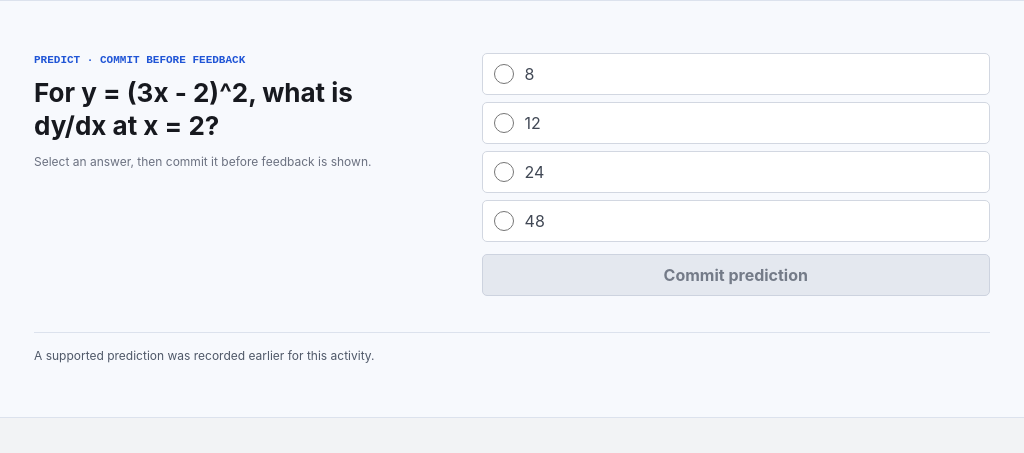
ChoicePredictionGate attempt state › distinguishes an unsupported retry from an earlier supported attempt
What coordinates should you click on to do the following:
click the radio button labelled "8"
I would click on:
 (504, 74)
Its box is 494,64 -> 514,84.
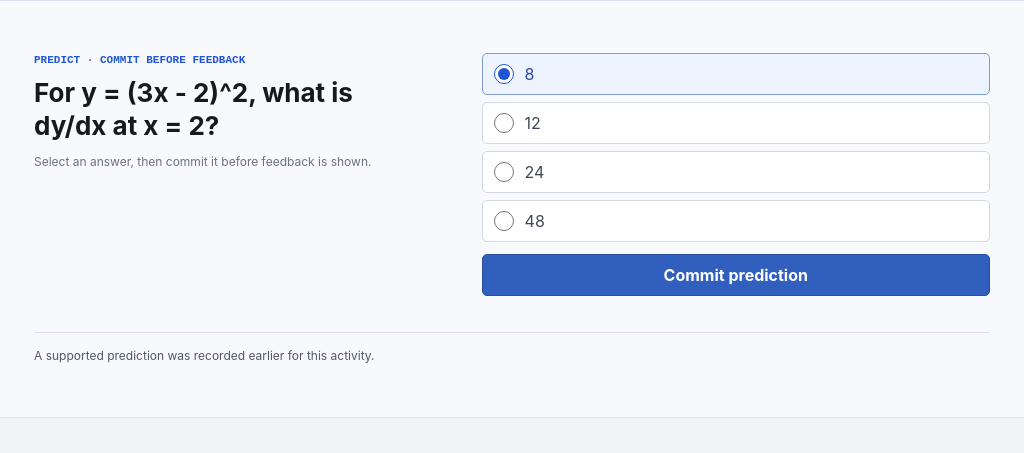
What coordinates should you click on to do the following:
click the button "Commit prediction"
I would click on:
 (736, 275)
Its box is 482,254 -> 990,296.
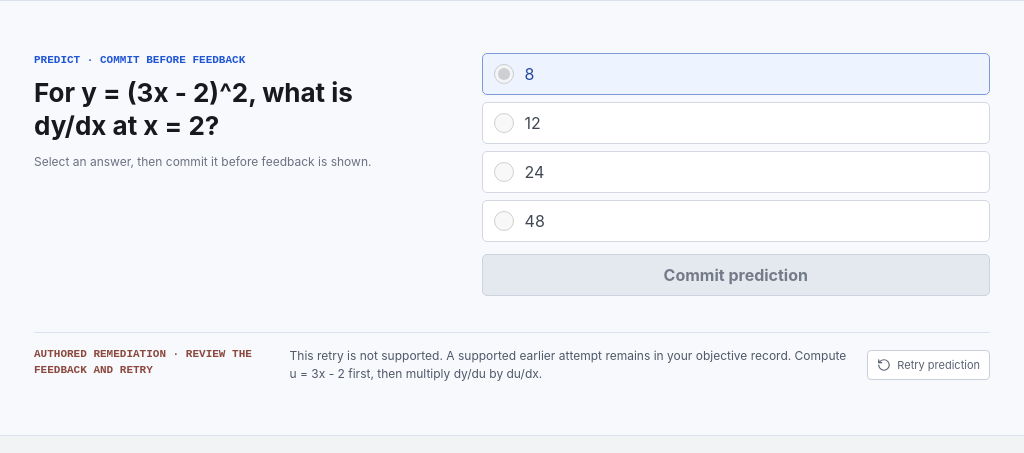
Now the text "A supported earlier attempt remains" is shown, box 290,348 -> 846,381
